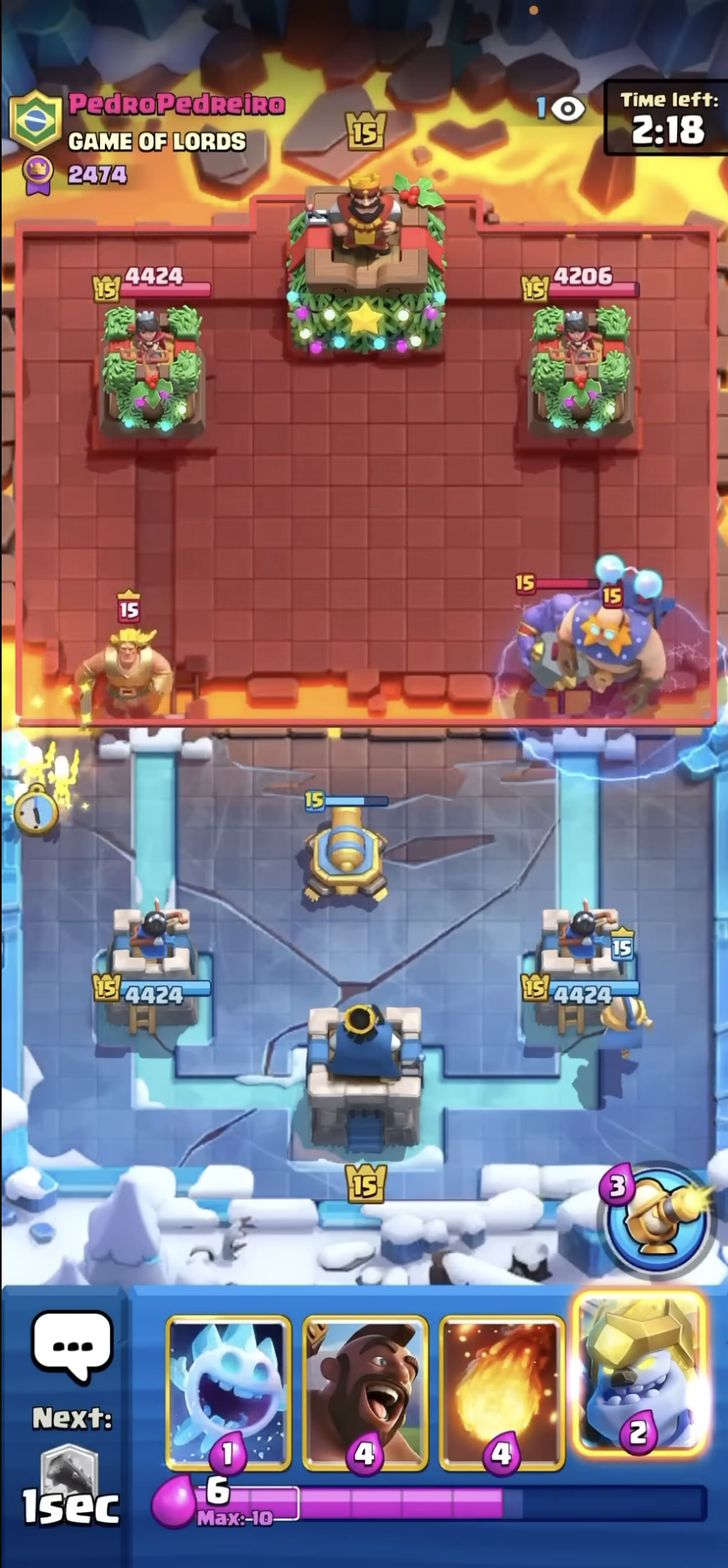bowler: (524, 555, 595, 702)
electro-giant: (561, 539, 688, 710)
golden-knight: (69, 567, 195, 739)
